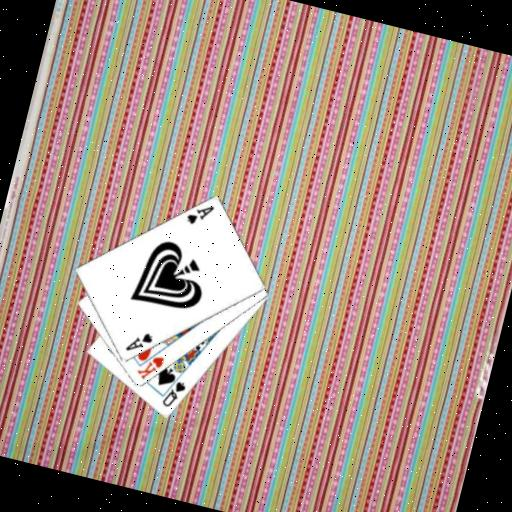AS: (182, 198, 217, 231), (122, 325, 156, 358)
KH: (133, 349, 167, 385)
QS: (158, 375, 189, 412)
